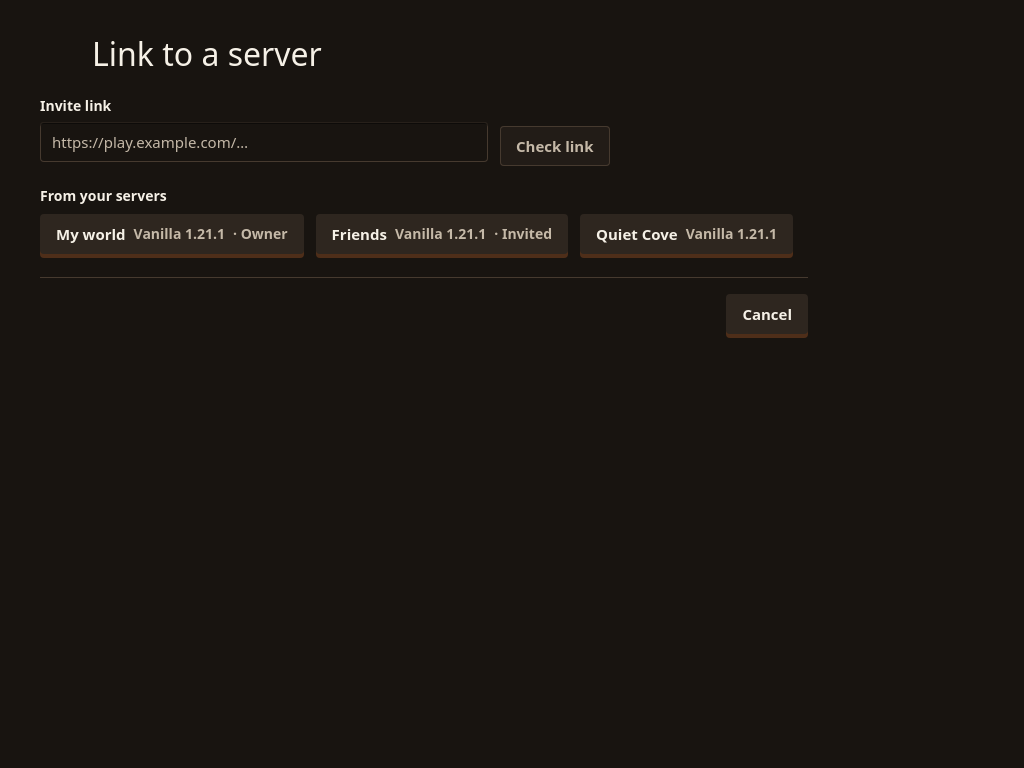
Test case: JoinServer › suggests the player's own servers that play the instance's version, owned first
Click the button "My world Vanilla 1.21.1 · Owner".
click(172, 234)  # box [40,214,304,254]
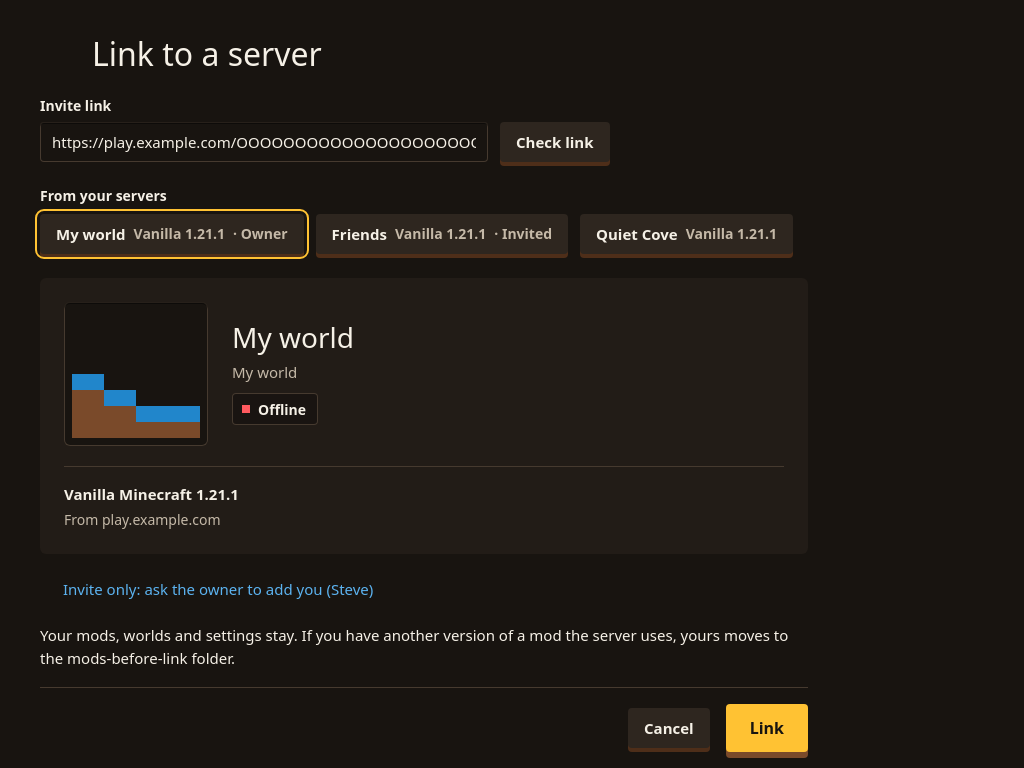
expect the button "Link" is shown: met, box [726,704,808,752]
